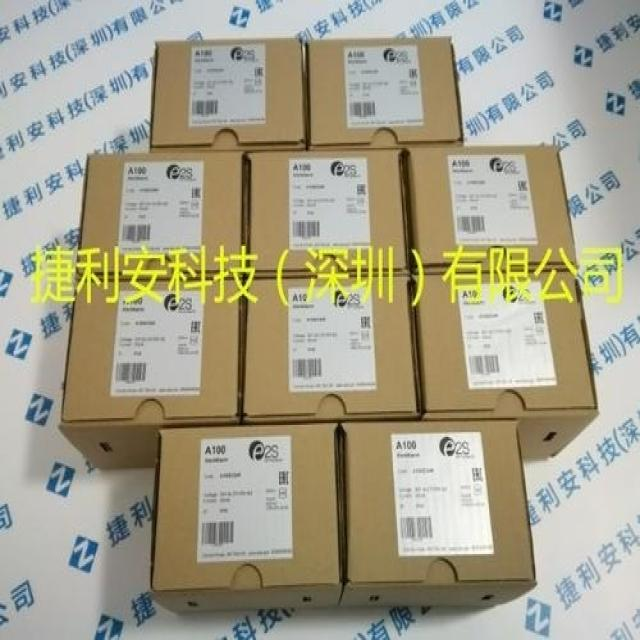Carton: (147, 423, 337, 594), (342, 420, 534, 585), (412, 270, 598, 413), (60, 279, 234, 422), (243, 275, 416, 413), (407, 143, 580, 265), (76, 153, 239, 275), (244, 148, 403, 270), (306, 36, 461, 146), (150, 38, 306, 143)
